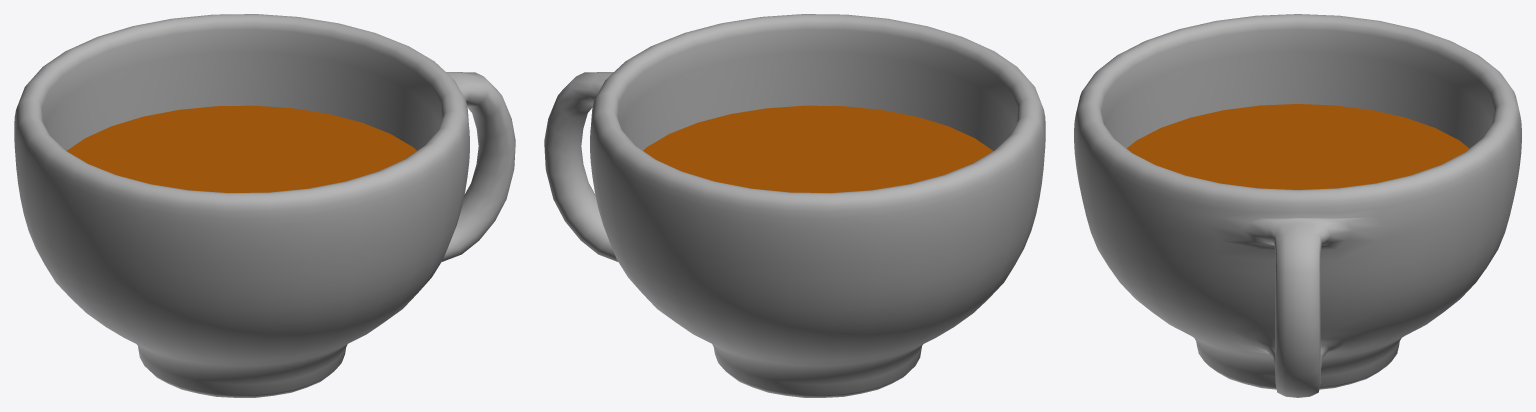
File: Cup Half full.fbx
The picture shows the model from 3 angles, left to right: view 1: azimuth 30°, elevation 25°; view 2: azimuth 150°, elevation 25°; view 3: azimuth 270°, elevation 25°; orthographic projection.
Parts seen in each view (by area): view 1: Cup Half full; view 2: Cup Half full; view 3: Cup Half full.
Part boxes in pixels (x1,y1,x2,y2): Cup Half full: (14, 14, 515, 397); Cup Half full: (544, 14, 1045, 397); Cup Half full: (1074, 14, 1521, 397).
Size of the model in its own units: 0.951 by 0.8052 by 0.49.
